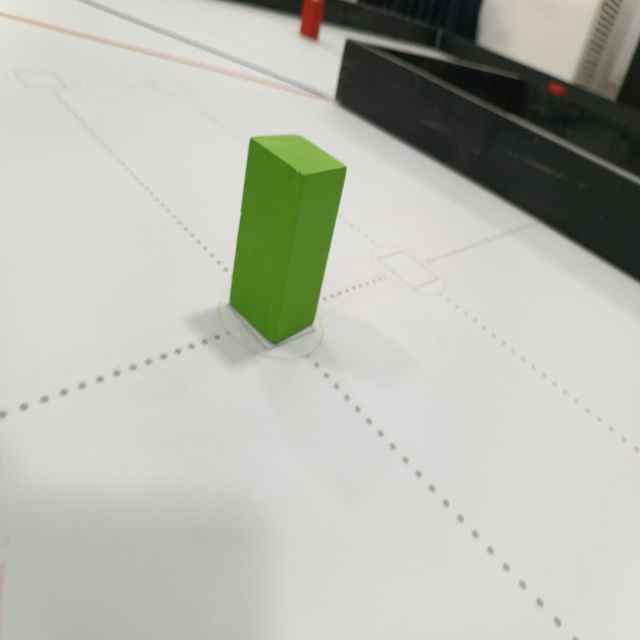blue line: (80, 0, 334, 99)
green rectangular prism: (227, 134, 347, 344)
orange line: (0, 16, 335, 100)
red rectangular prism: (298, 0, 325, 43)
